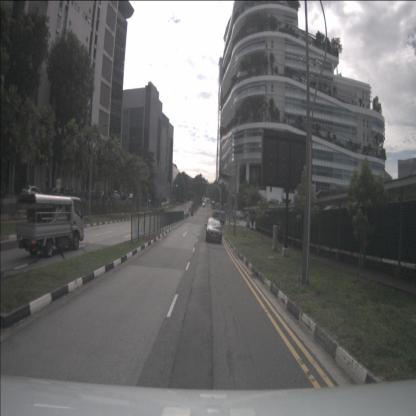human-pedestrian-adult: (277, 217, 283, 244), (251, 216, 254, 230)
vehicle-car: (206, 218, 222, 242), (22, 186, 43, 198), (85, 191, 99, 202), (61, 188, 74, 198), (48, 188, 62, 197), (97, 191, 108, 201), (233, 210, 244, 220), (110, 191, 121, 200), (71, 188, 80, 197), (120, 192, 126, 200), (129, 193, 134, 200)
vehicle-truck: (17, 195, 84, 258), (212, 210, 227, 225)
